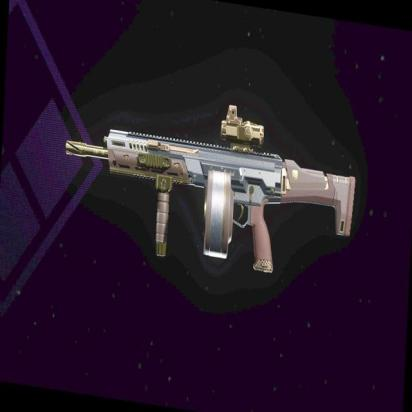Gun: (65, 78, 366, 296)
